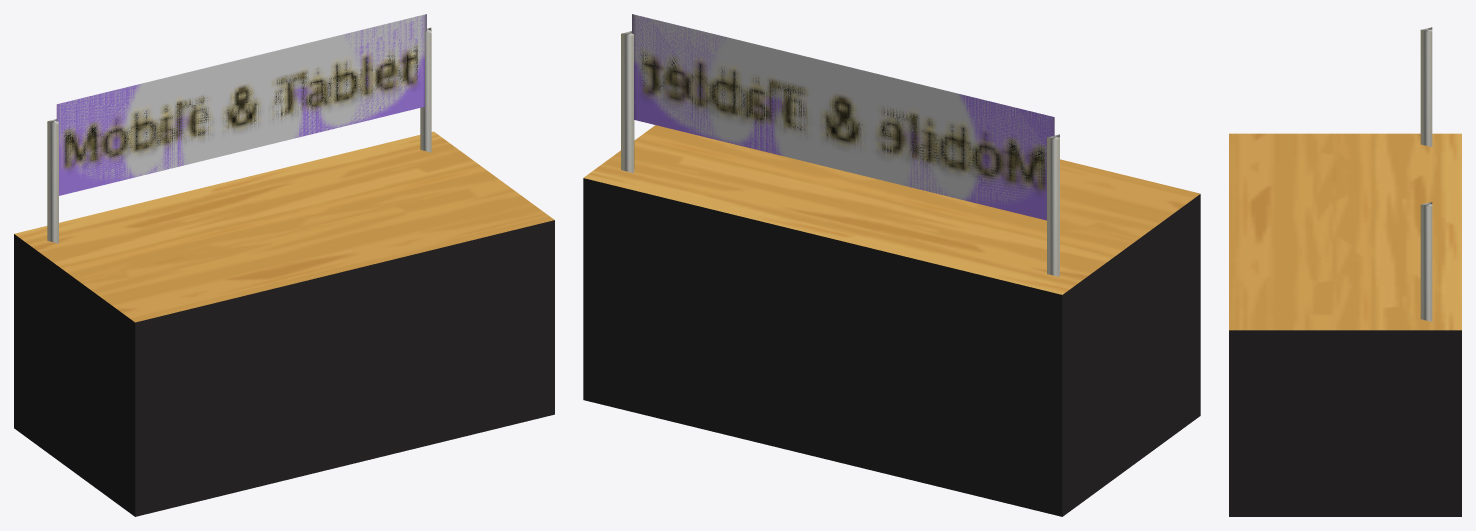
Rendered from MobileNTabletDisplay.fbx.
The picture shows the model from 3 angles, left to right: view 1: azimuth 30°, elevation 25°; view 2: azimuth 150°, elevation 25°; view 3: azimuth 270°, elevation 25°; orthographic projection. The views are drawn at different scales.
Visible parts, largest first — view 1: Maya_File_Assets:Kiosks_ItemsOnShelf_ObjectPile:mobileAndTab; view 2: Maya_File_Assets:Kiosks_ItemsOnShelf_ObjectPile:mobileAndTab; view 3: Maya_File_Assets:Kiosks_ItemsOnShelf_ObjectPile:mobileAndTab.
Boxes of the visible parts, x1,y1,x2,y2 form: Maya_File_Assets:Kiosks_ItemsOnShelf_ObjectPile:mobileAndTab: [14, 14, 554, 516]; Maya_File_Assets:Kiosks_ItemsOnShelf_ObjectPile:mobileAndTab: [583, 14, 1200, 516]; Maya_File_Assets:Kiosks_ItemsOnShelf_ObjectPile:mobileAndTab: [1229, 27, 1461, 516].
Size of the model in its own units: 2 by 1.51 by 1.
